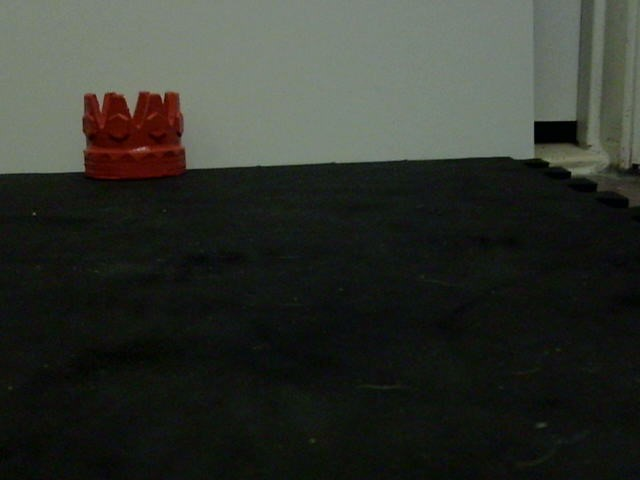crown: (79, 89, 189, 181)
